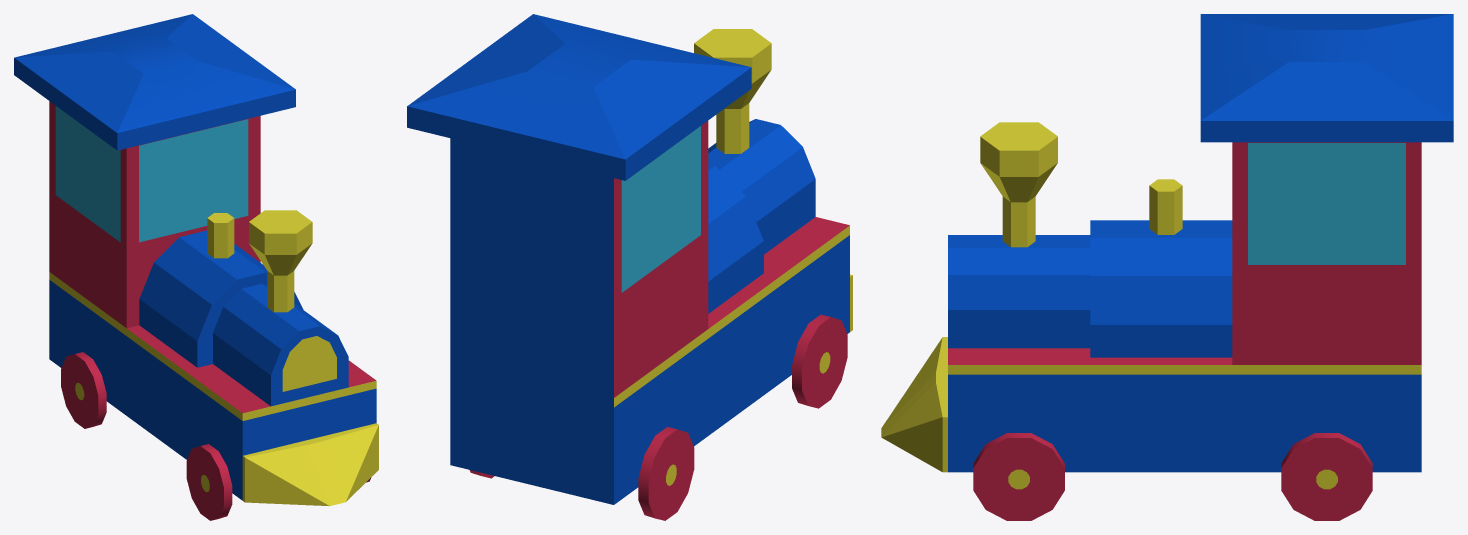
File: Train.fbx
3 renders of one model, left to right at view 1: azimuth 30°, elevation 25°; view 2: azimuth 150°, elevation 25°; view 3: azimuth 270°, elevation 25°, orthographic. The views are drawn at different scales.
Visible parts, largest first — view 1: Train; view 2: Train; view 3: Train.
Part boxes in pixels (x1,y1,x2,y2): Train: (14, 14, 378, 520); Train: (407, 14, 852, 520); Train: (881, 14, 1453, 520).
Size of the model in its own units: 107 by 200 by 242.
